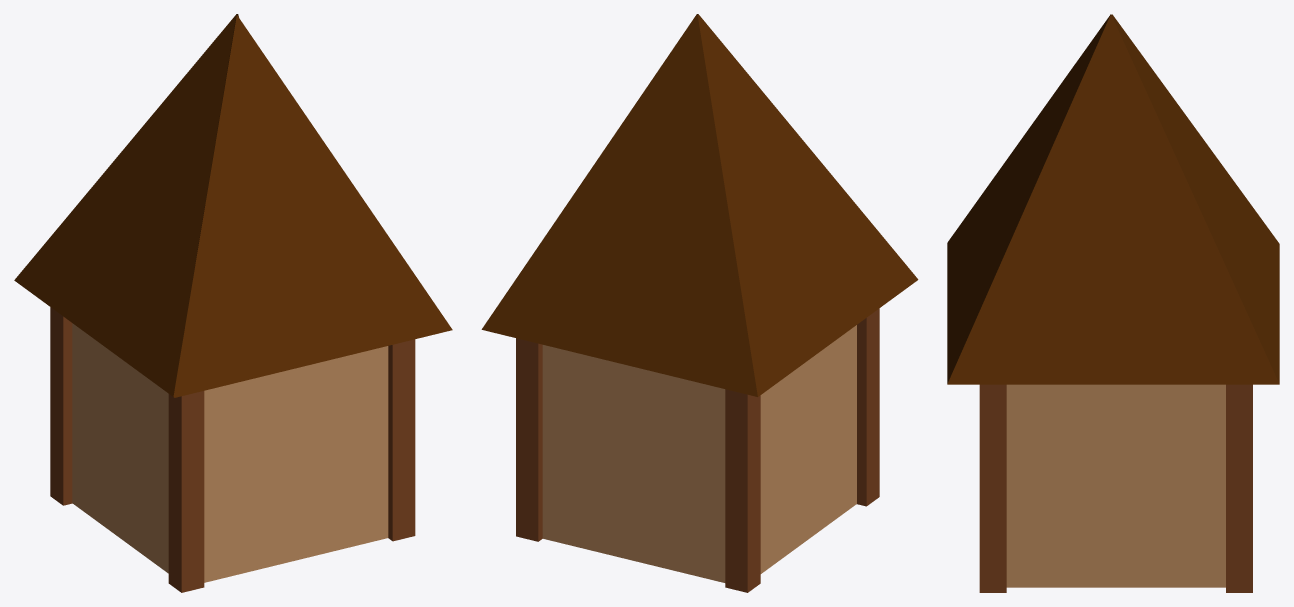
The model's file is casutaptbogdica19.fbx.
3 views of the same model, side by side, from view 1: azimuth 30°, elevation 25°; view 2: azimuth 150°, elevation 25°; view 3: azimuth 270°, elevation 25° (orthographic). The views are drawn at different scales.
Parts seen in each view (by area): view 1: Cube, Cube.001, Cube.005, Cube.004, Cube.002; view 2: Cube, Cube.001, Cube.002, Cube.003, Cube.005; view 3: Cube, Cube.001, Cube.004, Cube.003.
Boxes of the visible parts, left/top/right/bottom form: Cube: left=14, top=14, right=452, bottom=397; Cube.001: left=72, top=323, right=388, bottom=582; Cube.005: left=168, top=391, right=204, bottom=592; Cube.004: left=388, top=339, right=415, bottom=541; Cube.002: left=50, top=307, right=72, bottom=505; Cube: left=481, top=14, right=918, bottom=396; Cube.001: left=542, top=325, right=856, bottom=582; Cube.002: left=725, top=389, right=760, bottom=592; Cube.003: left=516, top=338, right=542, bottom=541; Cube.005: left=857, top=308, right=879, bottom=506; Cube: left=947, top=14, right=1279, bottom=384; Cube.001: left=1006, top=384, right=1225, bottom=587; Cube.004: left=979, top=384, right=1006, bottom=592; Cube.003: left=1226, top=384, right=1252, bottom=592.
Bounding box in the file's own units: 527 × 907 × 525.
